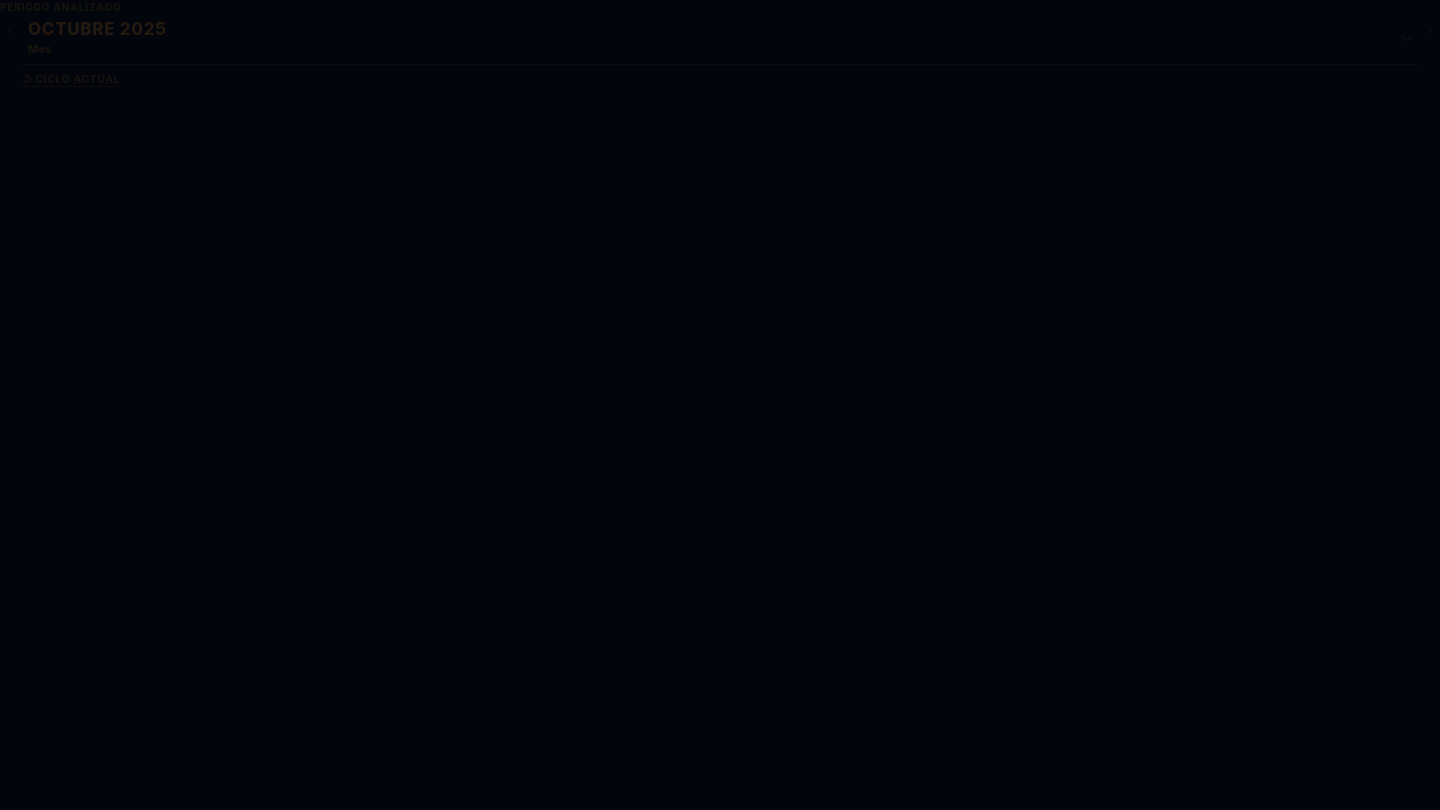
Test: DirectorAnalysisPeriodPicker · semanas que cruzan el mes › octubre 2025 muestra 29 sep – 5 oct y 27 oct – 2 nov completas
Click the button "OCTUBRE 2025 Mes" at (97, 29), box [22,18,1418,65]
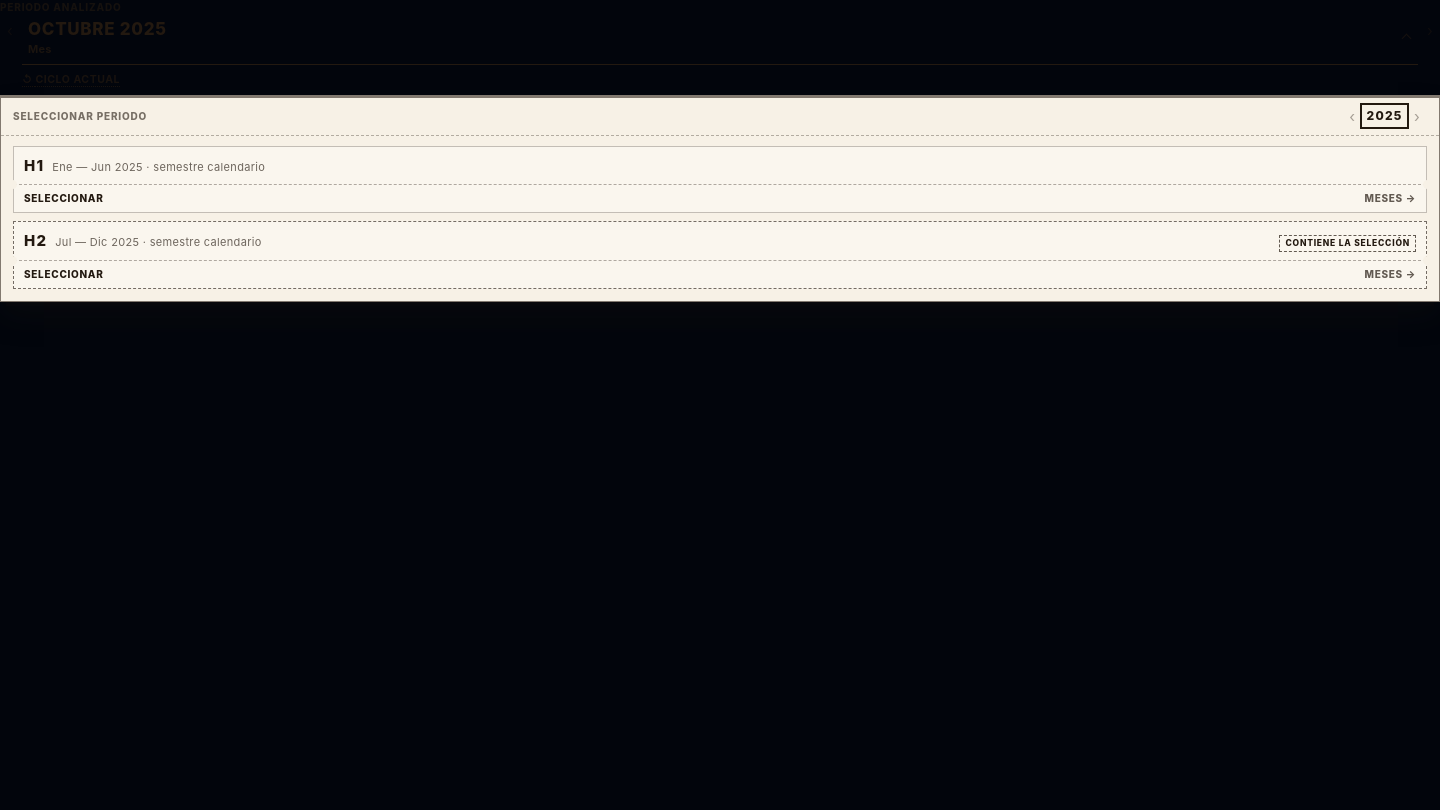
Click the button "Meses →" below "Contiene la selección" at (1385, 274), box [720,261,1426,288]
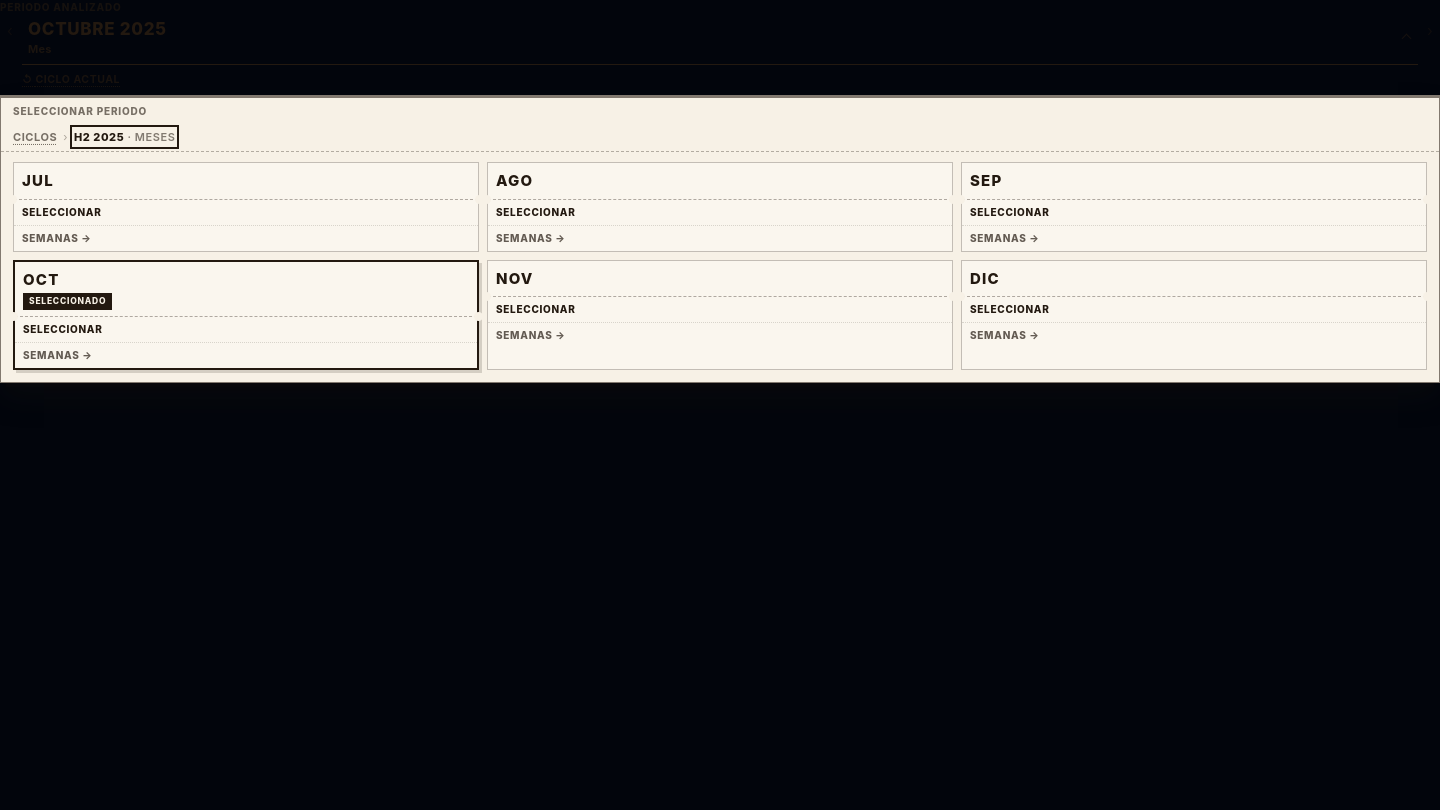
Click the button "Semanas →" below "Seleccionado" at (53, 355), box [15,342,477,368]
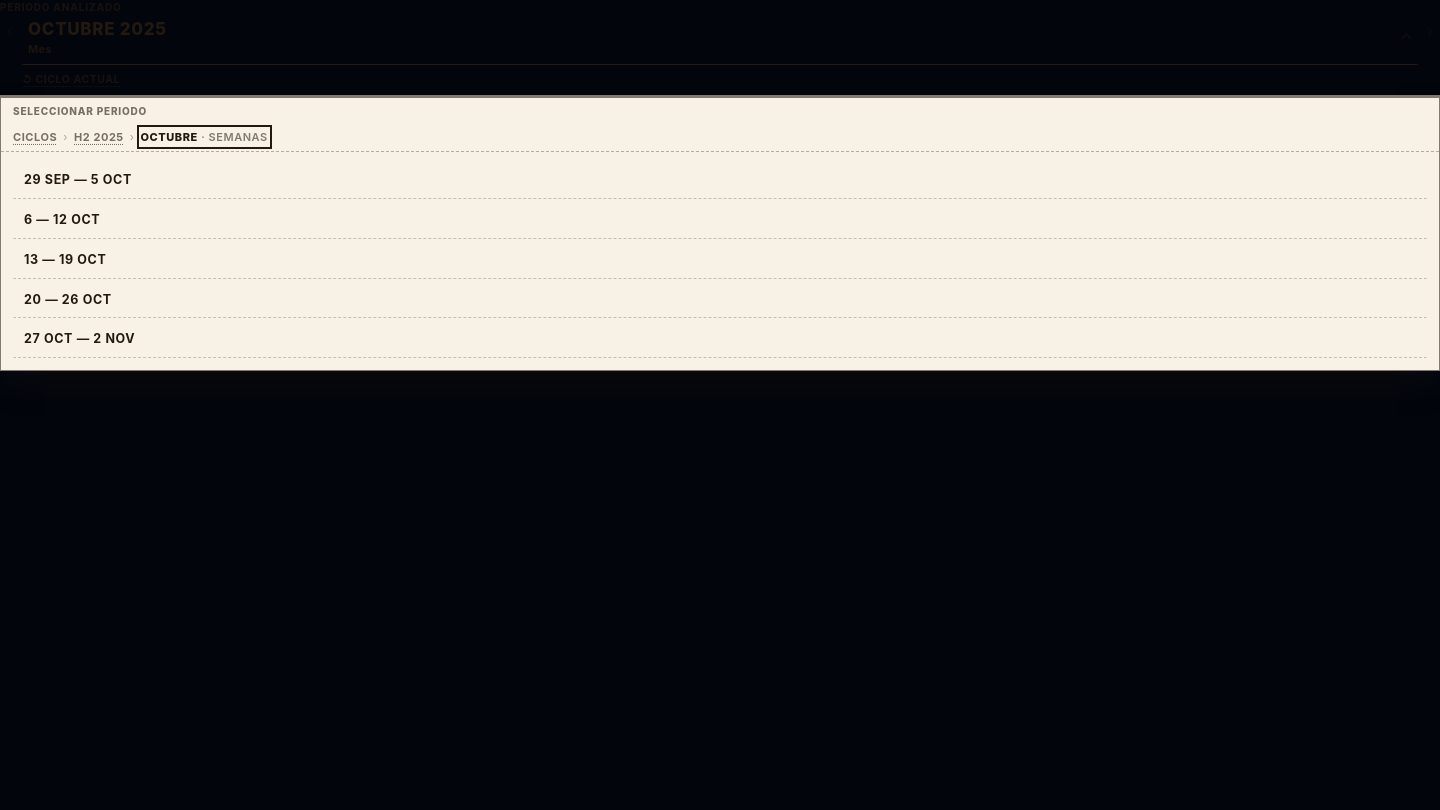
Check: the button "29 SEP — 5 OCT" is shown, box [13,162,1427,199]
Check: the button "27 OCT — 2 NOV" is shown, box [13,321,1427,358]
